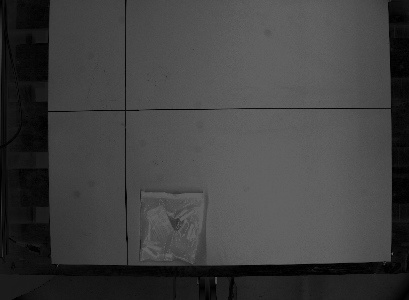t3: (135, 188, 207, 267)
